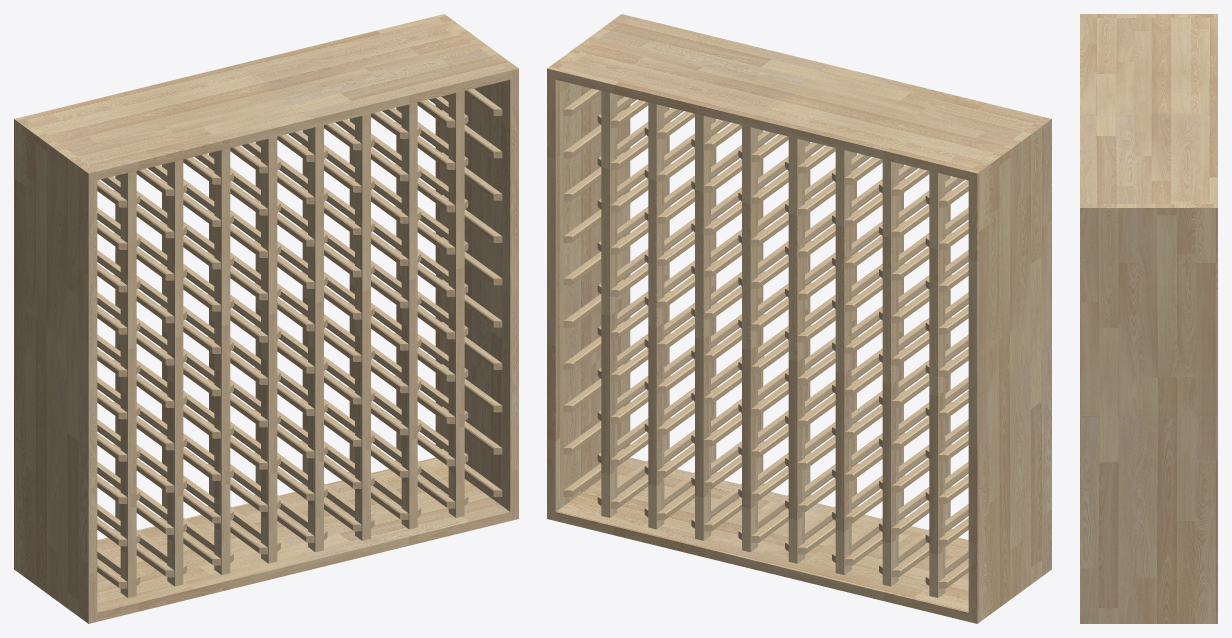
3 renders of one model, left to right at view 1: azimuth 30°, elevation 25°; view 2: azimuth 150°, elevation 25°; view 3: azimuth 270°, elevation 25°, orthographic. The views are drawn at different scales.
Parts seen in each view (by area): view 1: Korpus side.010, Korpus bund_top.009, Korpus side.011, Korpus bund_top.008, Lamel.162, Lamel.166, Lamel.156, Lamel.154, Lamel.152, Lamel.160, Lamel.158, Lamel.164 (+7 smaller); view 2: Korpus side.010, Korpus bund_top.009, Korpus side.011, Korpus bund_top.008, Lamel.163, Lamel.167, Lamel.157, Lamel.155, Lamel.153, Lamel.161, Lamel.159, Lamel.165 (+7 smaller); view 3: Korpus side.011, Korpus bund_top.009, Korpus side.010.
Part boxes in pixels (left/top/right/bottom): Korpus side.010: left=14, top=117, right=97, bottom=623; Korpus bund_top.009: left=23, top=16, right=510, bottom=180; Korpus side.011: left=435, top=14, right=518, bottom=520; Korpus bund_top.008: left=97, top=457, right=510, bottom=621; Lamel.162: left=214, top=148, right=230, bottom=574; Lamel.166: left=261, top=136, right=277, bottom=563; Lamel.156: left=167, top=159, right=183, bottom=586; Lamel.154: left=120, top=171, right=136, bottom=597; Lamel.152: left=448, top=91, right=464, bottom=517; Lamel.160: left=401, top=102, right=417, bottom=529; Lamel.158: left=355, top=113, right=370, bottom=540; Lamel.164: left=308, top=125, right=323, bottom=552; Korpus side.010: left=968, top=117, right=1051, bottom=623; Korpus bund_top.009: left=555, top=16, right=1042, bottom=180; Korpus side.011: left=547, top=14, right=630, bottom=520; Korpus bund_top.008: left=555, top=457, right=968, bottom=621; Lamel.163: left=835, top=148, right=851, bottom=574; Lamel.167: left=788, top=136, right=804, bottom=563; Lamel.157: left=882, top=159, right=898, bottom=586; Lamel.155: left=929, top=171, right=945, bottom=597; Lamel.153: left=601, top=91, right=617, bottom=517; Lamel.161: left=648, top=102, right=664, bottom=529; Lamel.159: left=695, top=113, right=710, bottom=540; Lamel.165: left=742, top=125, right=757, bottom=552; Korpus side.011: left=1080, top=204, right=1217, bottom=623; Korpus bund_top.009: left=1080, top=18, right=1217, bottom=203; Korpus side.010: left=1080, top=14, right=1217, bottom=17.
Bounding box in the file's own units: 1 × 1 × 0.3.
1 material, 1 textured.
